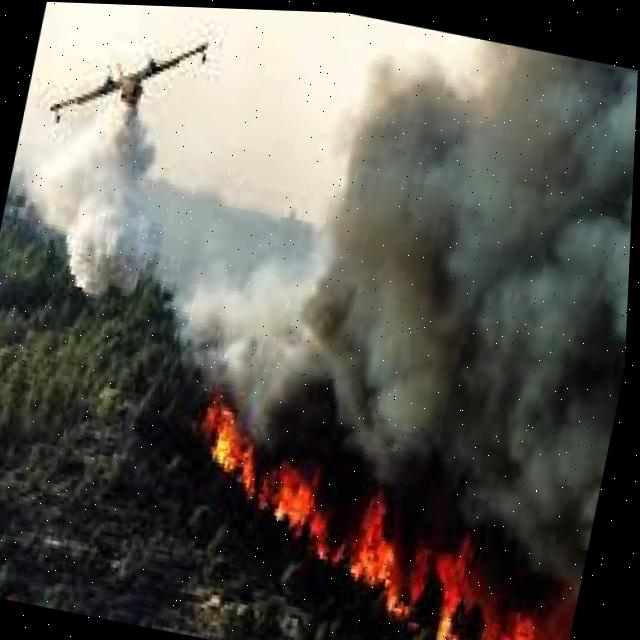smoke: (17, 36, 638, 574)
